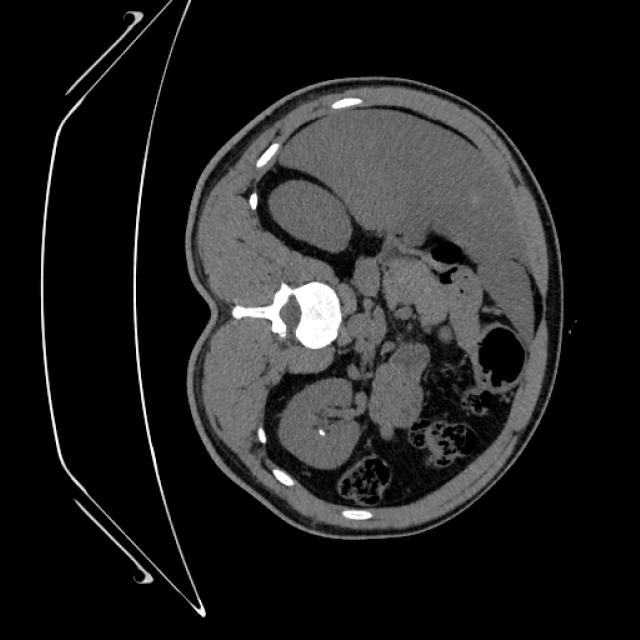kidneystone: (318, 429, 325, 436)
